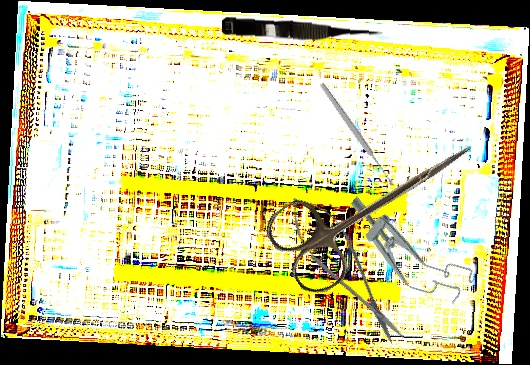Iris Scissors: (259, 103, 494, 303)
Micro Scissor: (276, 185, 417, 355), (221, 16, 384, 48)
Speculum: (332, 187, 478, 316)
Surgical Spoon: (318, 81, 396, 188)
